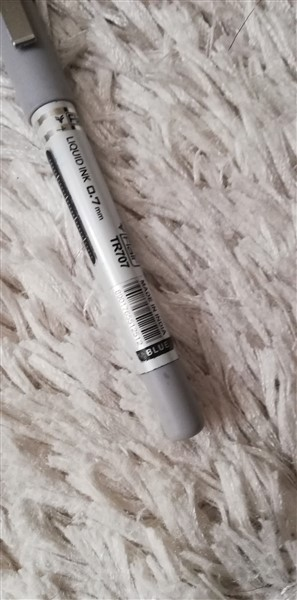pilot kalem: (1, 1, 223, 448)
